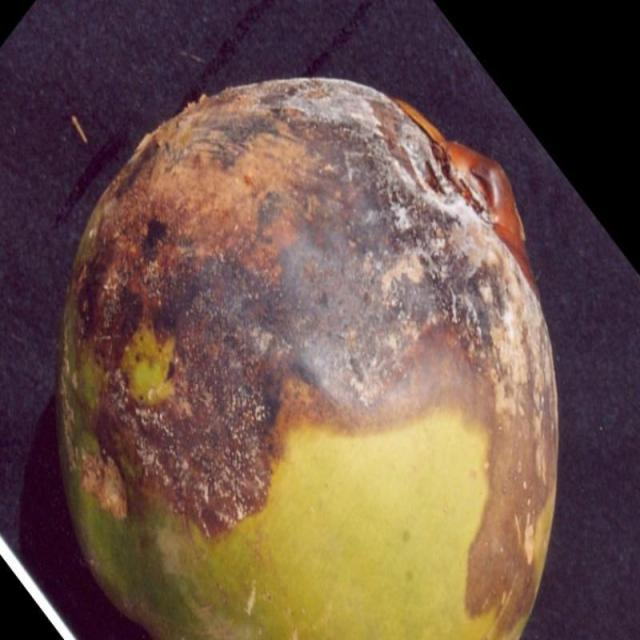damaged: (50, 78, 560, 639)
